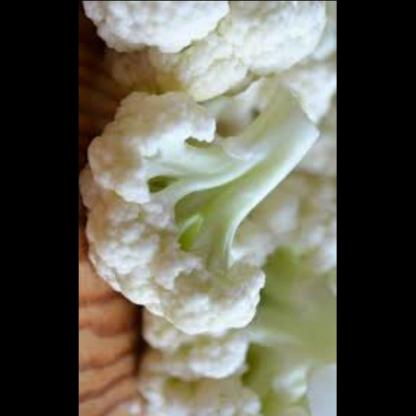cayliflower: (87, 0, 337, 409)
